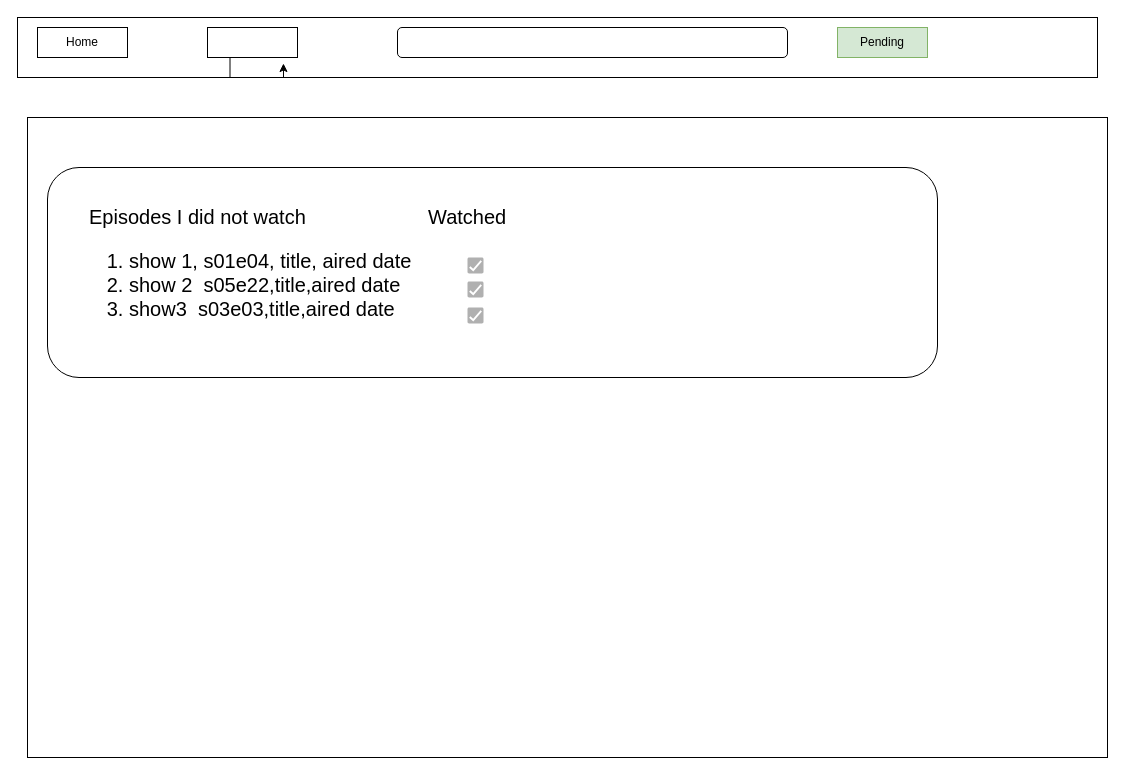
Image size: 1125x775. Some labels were removed from this diagram. The shapes that lost their labels are listed below. From the top down, each one's box as (x1, y1, x2, y2) in pixels, then its label:
(206, 26, 298, 58): My Whatch List
(396, 26, 788, 58): search
